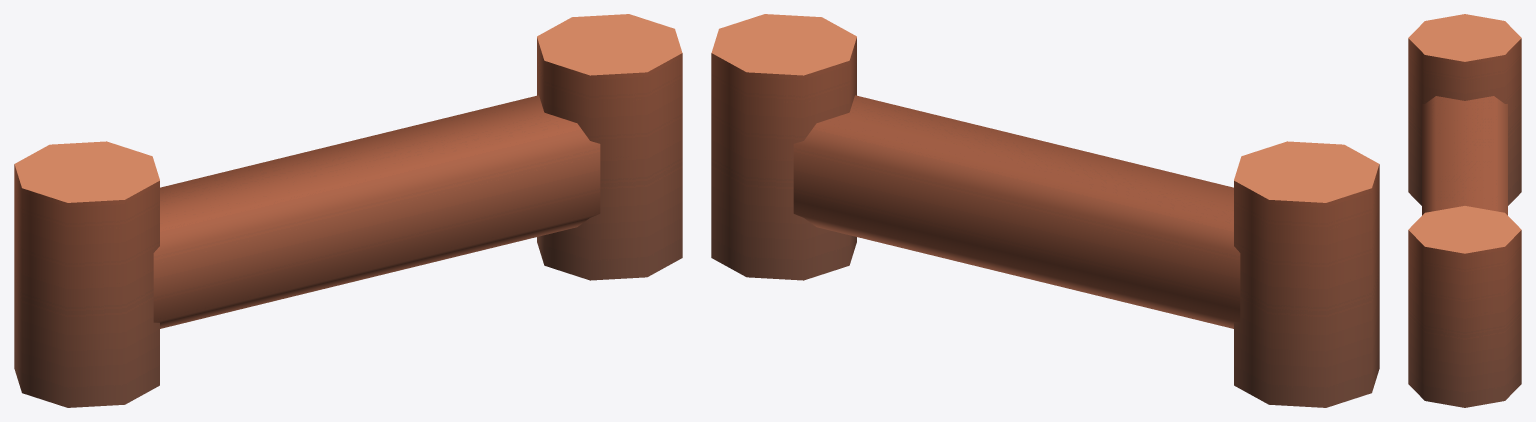
The model's file is fence-low-straight.glb.
3 views of the same model, side by side, from view 1: azimuth 30°, elevation 25°; view 2: azimuth 150°, elevation 25°; view 3: azimuth 270°, elevation 25° (orthographic). The views are drawn at different scales.
Parts seen in each view (by area): view 1: fence-low-straight; view 2: fence-low-straight; view 3: fence-low-straight.
Boxes of the visible parts, x1,y1,x2,y2 form: fence-low-straight: [14, 14, 682, 407]; fence-low-straight: [711, 14, 1379, 407]; fence-low-straight: [1408, 14, 1521, 407].
Bounding box in the file's own units: 1 × 0.3 × 0.2.
Materials: 1 (1 with a texture image).
